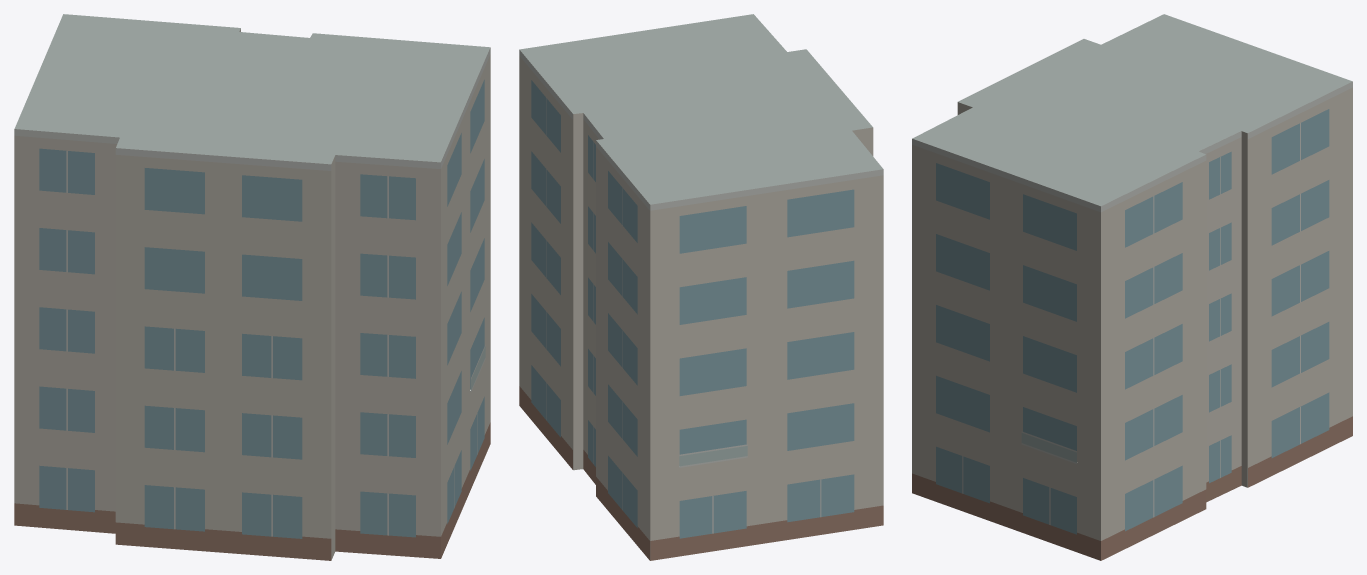
Rendered from survey-upis-32893190.glb.
3 views of the same model, side by side, from view 1: azimuth 30°, elevation 25°; view 2: azimuth 150°, elevation 25°; view 3: azimuth 270°, elevation 25° (orthographic). The views are drawn at different scales.
Visible parts, largest first — view 1: survey-upis-32893190.tmp; view 2: survey-upis-32893190.tmp; view 3: survey-upis-32893190.tmp.
Boxes of the visible parts, x1,y1,x2,y2 form: survey-upis-32893190.tmp: (14, 14, 490, 560); survey-upis-32893190.tmp: (519, 14, 883, 560); survey-upis-32893190.tmp: (912, 14, 1352, 560).
Size of the model in its own units: 16.7 by 14.35 by 16.17.
